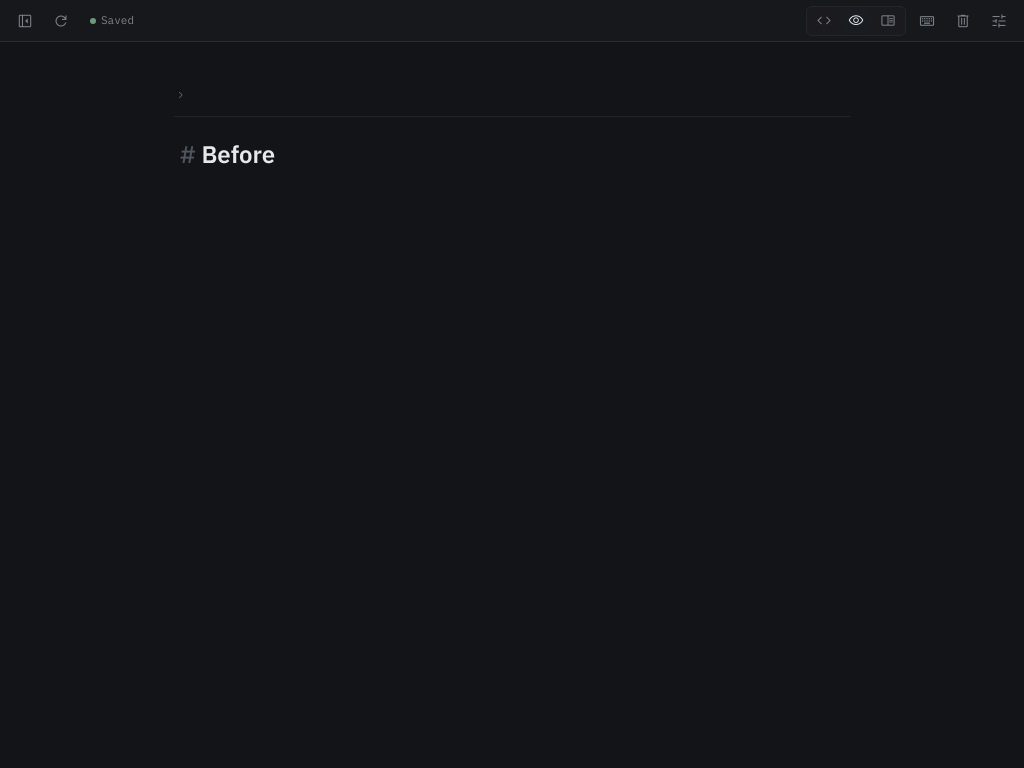
Test: MarkdownEditor reload › leaves the file alone once the save raised a conflict
Step 1. Click the button named "Reload from disk" → (61, 20), box [46, 6, 76, 36]
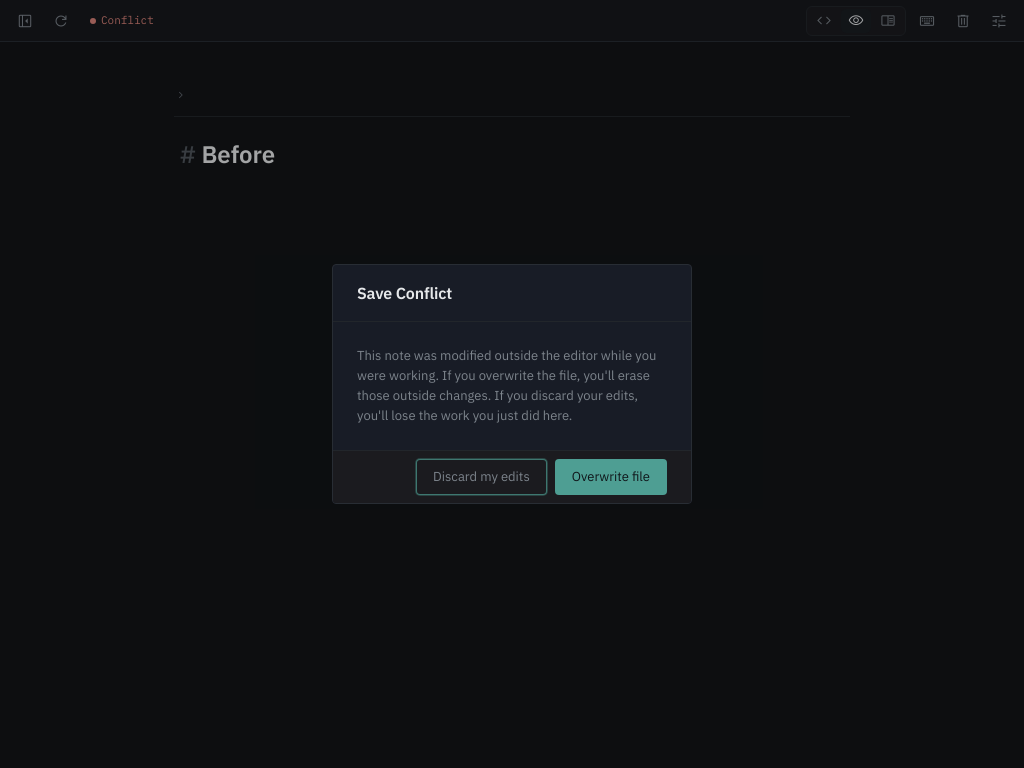
Now the text "Save Conflict" is shown, box [357, 283, 452, 303]
